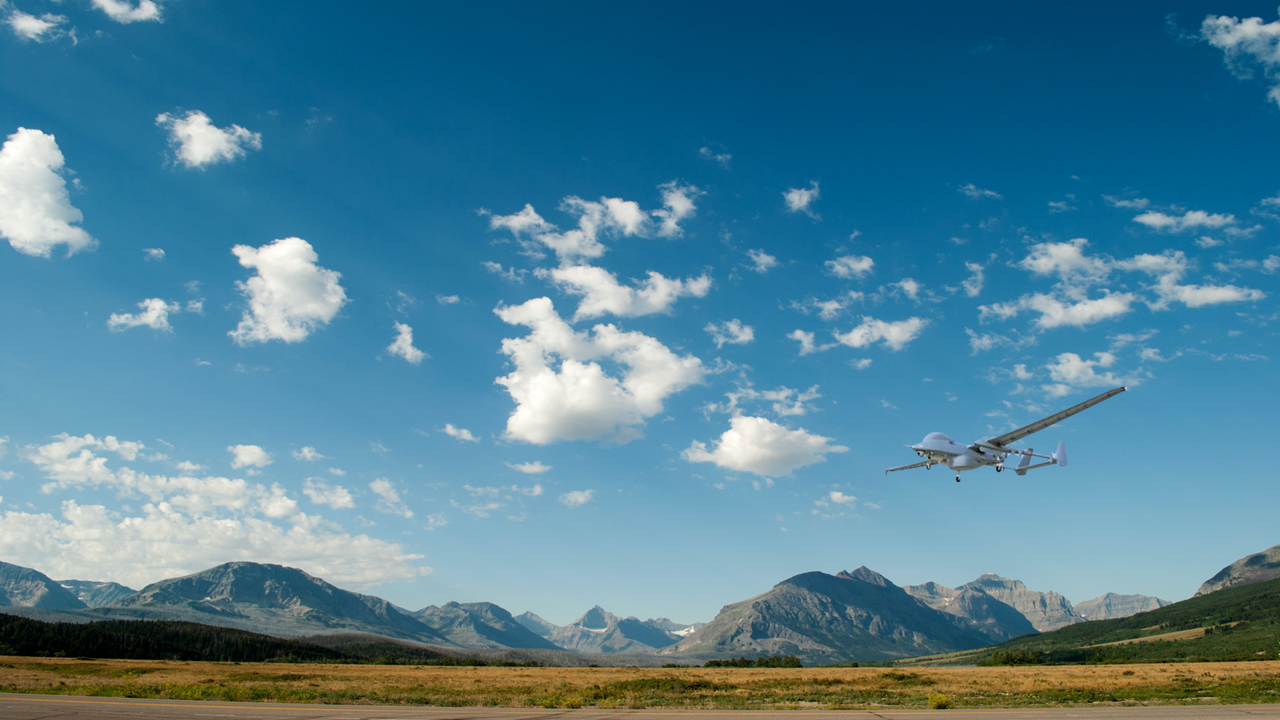military drone: (885, 385, 1128, 482)
